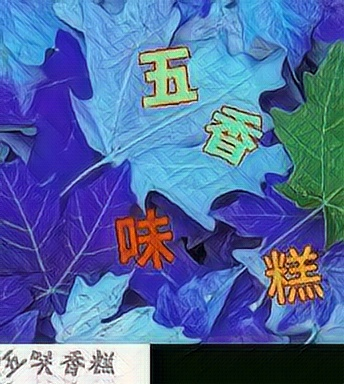B8E2: (263, 240, 326, 307)
CEB6: (114, 203, 177, 270)
CEE5: (136, 46, 199, 113)
CFE3: (201, 102, 264, 169)
